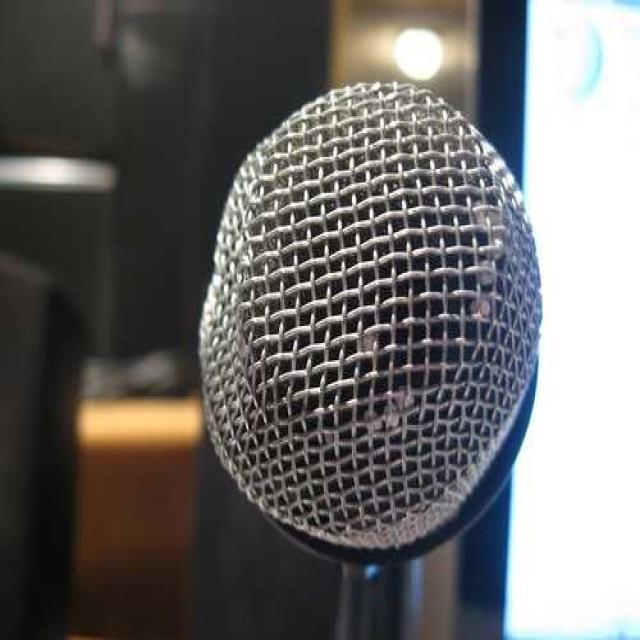microphone: (198, 74, 542, 634)
